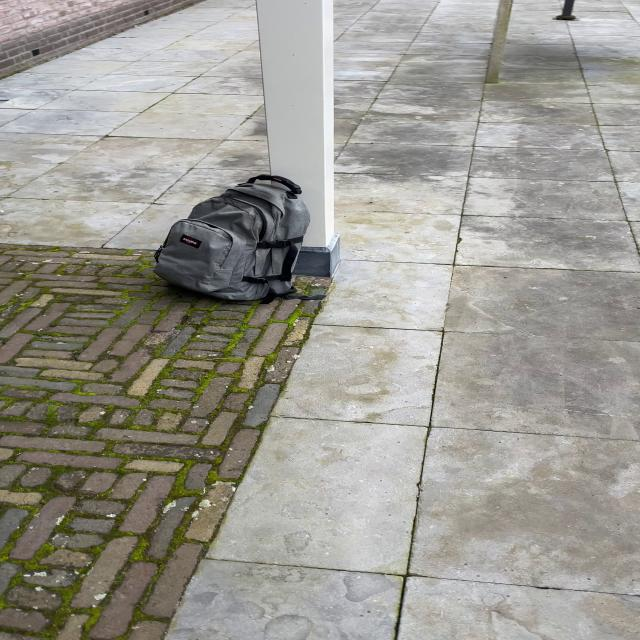backpack: (145, 172, 317, 306)
